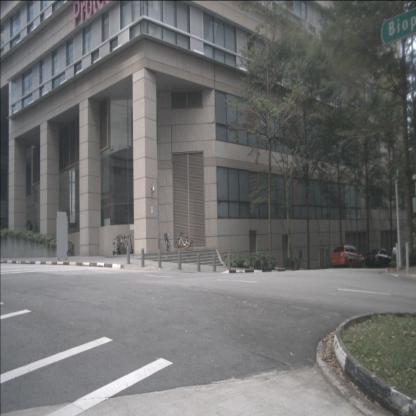human-pedestrian-adult: (28, 221, 33, 240)
vehicle-bicycle: (176, 231, 193, 252), (164, 231, 171, 252)
vehicle-car: (332, 245, 366, 269), (366, 248, 394, 270)
